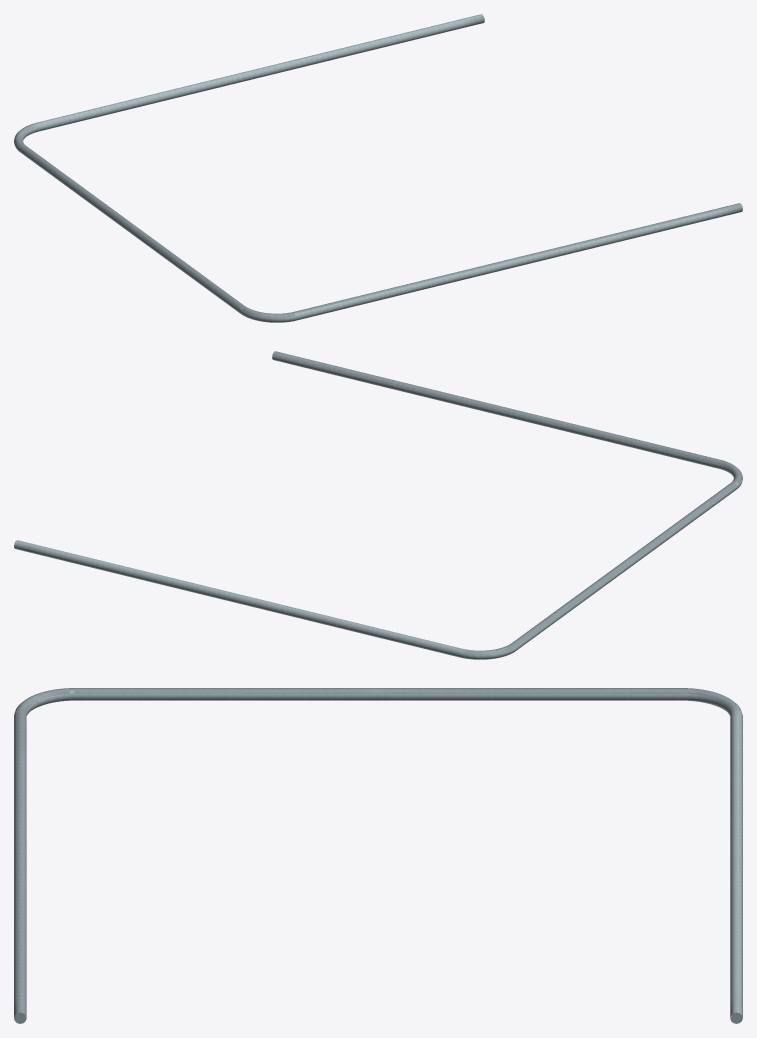
The model's file is 17-rolled-tin-rim-82-1.fbx.
3 views of the same model, one above another, from view 1: azimuth 30°, elevation 25°; view 2: azimuth 150°, elevation 25°; view 3: azimuth 270°, elevation 25° (orthographic). The views are drawn at different scales.
Visible parts, largest first — view 1: rolled-tin-rim-82-1; view 2: rolled-tin-rim-82-1; view 3: rolled-tin-rim-82-1.
Boxes of the visible parts, x1,y1,x2,y2 form: rolled-tin-rim-82-1: (14, 14, 742, 322); rolled-tin-rim-82-1: (14, 351, 742, 659); rolled-tin-rim-82-1: (14, 688, 742, 1023).
Bounding box in the file's own units: 8520 × 140 × 8039.
1 material, 1 textured.
